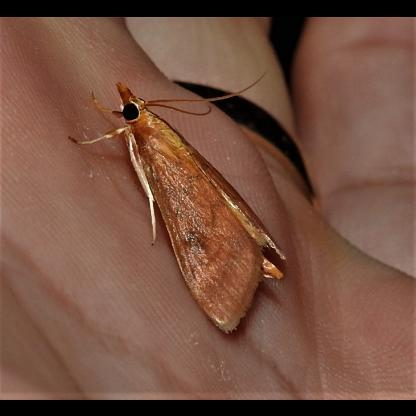Asian Corn Borer Moth: (64, 66, 290, 338)
